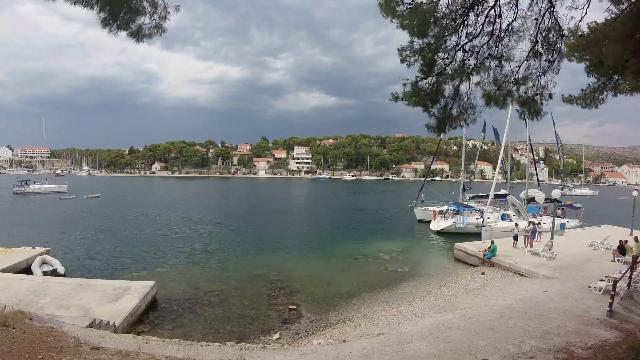Freighter: (50, 168, 70, 178)
Sailboat: (10, 173, 74, 197)
